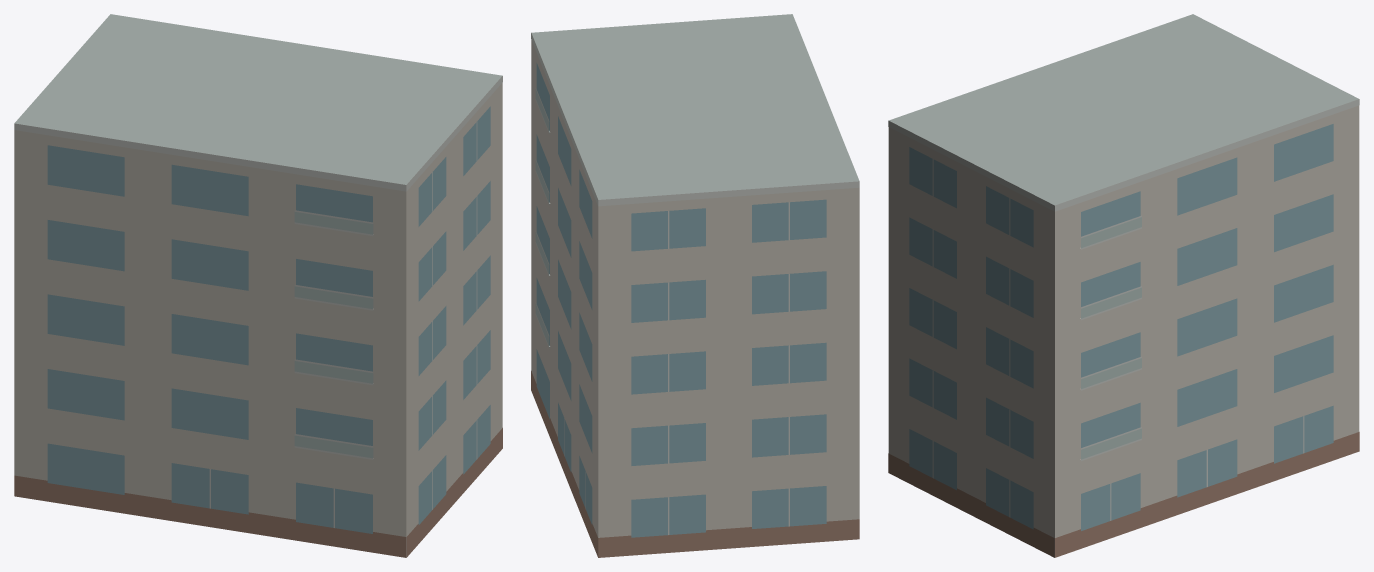
The model's file is survey-upis-32852020.glb.
The picture shows the model from 3 angles, left to right: view 1: azimuth 30°, elevation 25°; view 2: azimuth 150°, elevation 25°; view 3: azimuth 270°, elevation 25°; orthographic projection. The views are drawn at different scales.
Parts seen in each view (by area): view 1: survey-upis-32852020.tmp; view 2: survey-upis-32852020.tmp; view 3: survey-upis-32852020.tmp.
Boxes of the visible parts, bbox=[...] form: survey-upis-32852020.tmp: bbox=[14, 14, 502, 557]; survey-upis-32852020.tmp: bbox=[531, 14, 859, 557]; survey-upis-32852020.tmp: bbox=[888, 14, 1359, 557].
Bounding box in the file's own units: 15.98 × 13.7 × 16.6.
